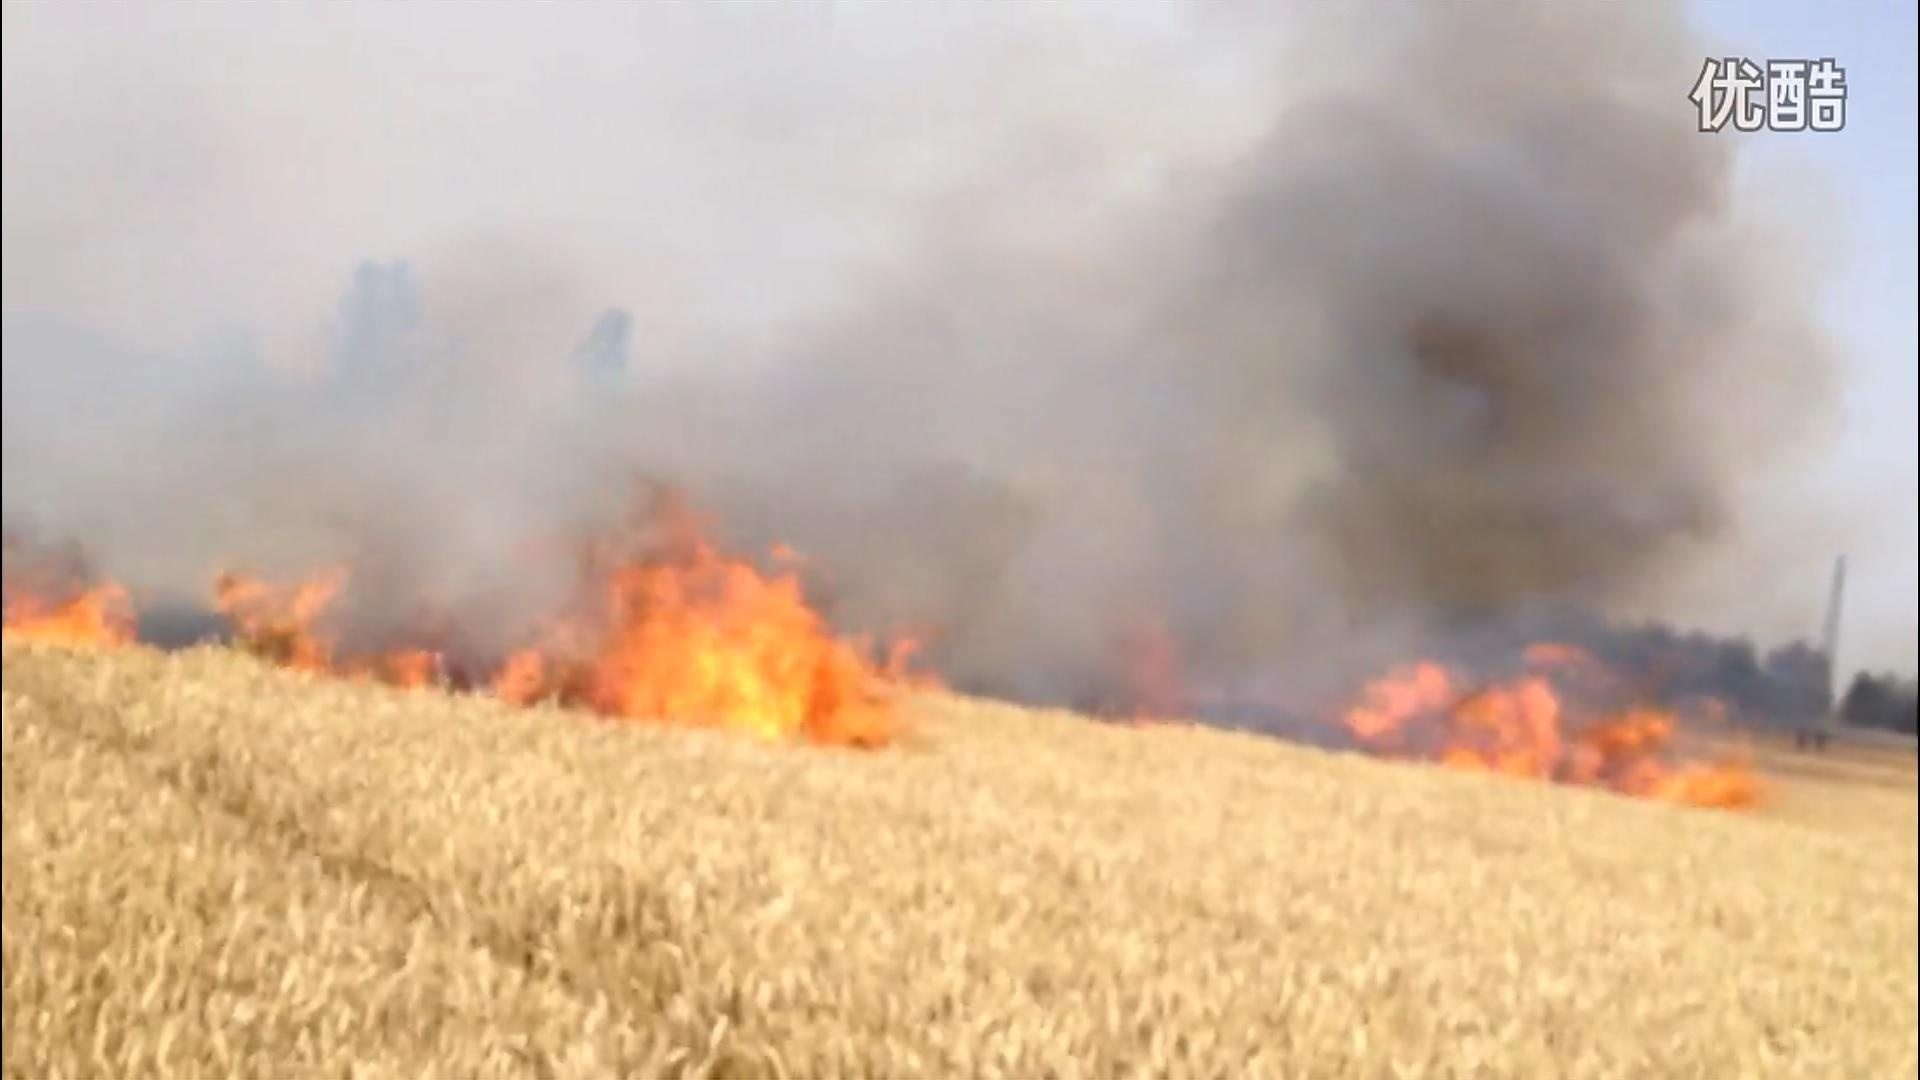fire: (4, 530, 914, 719), (1335, 644, 1779, 798)
